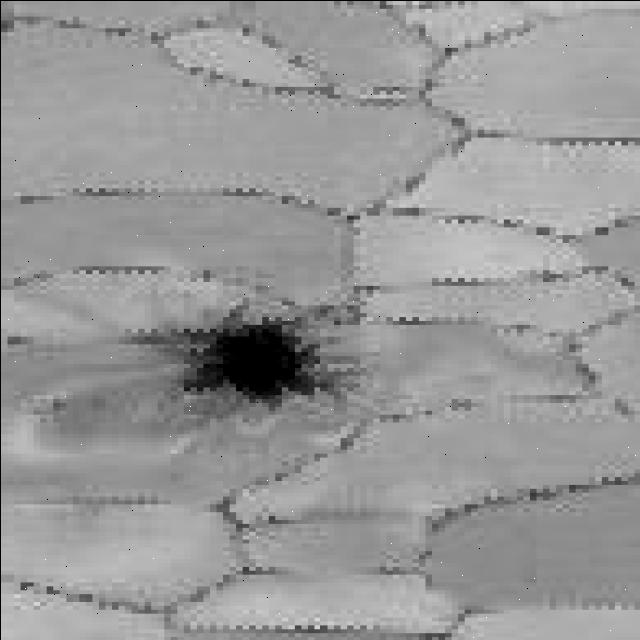good_void: (165, 304, 329, 409)
